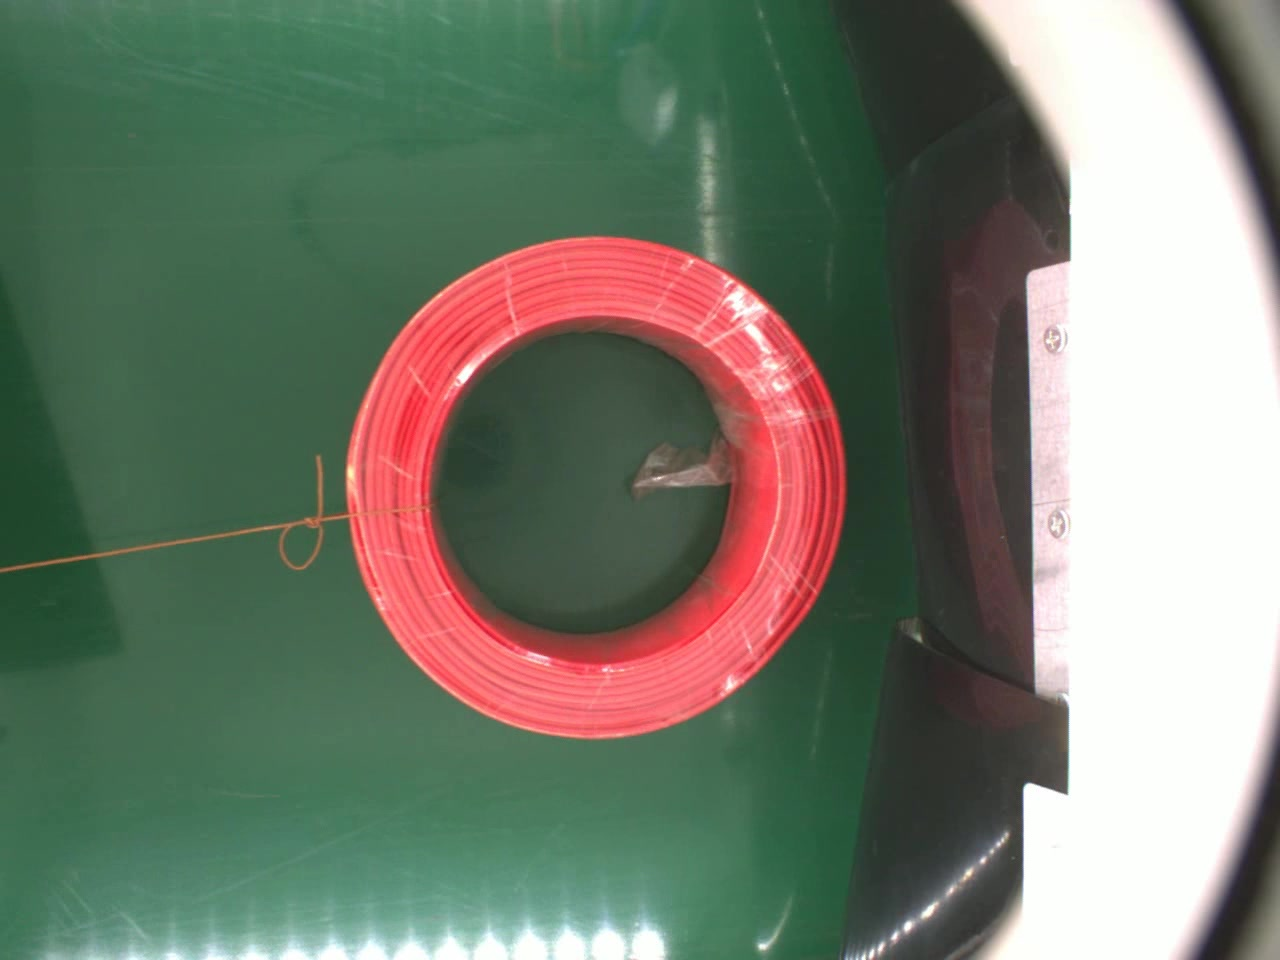red: (345, 232, 844, 746)
